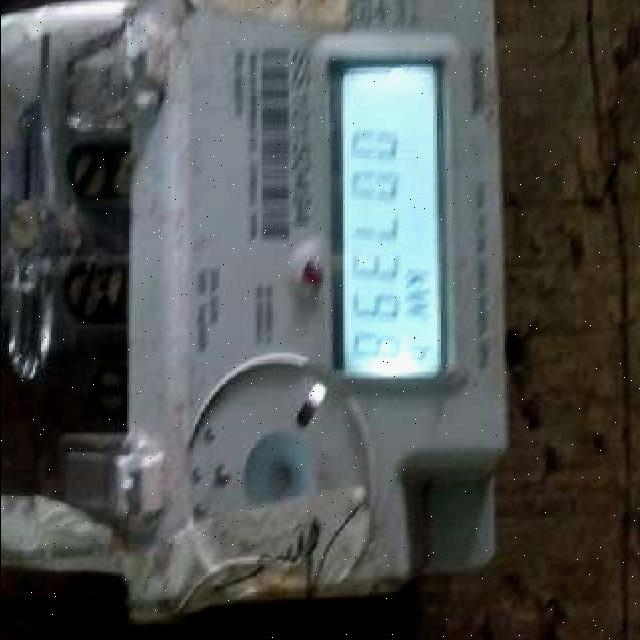LCD: (325, 49, 447, 396)
